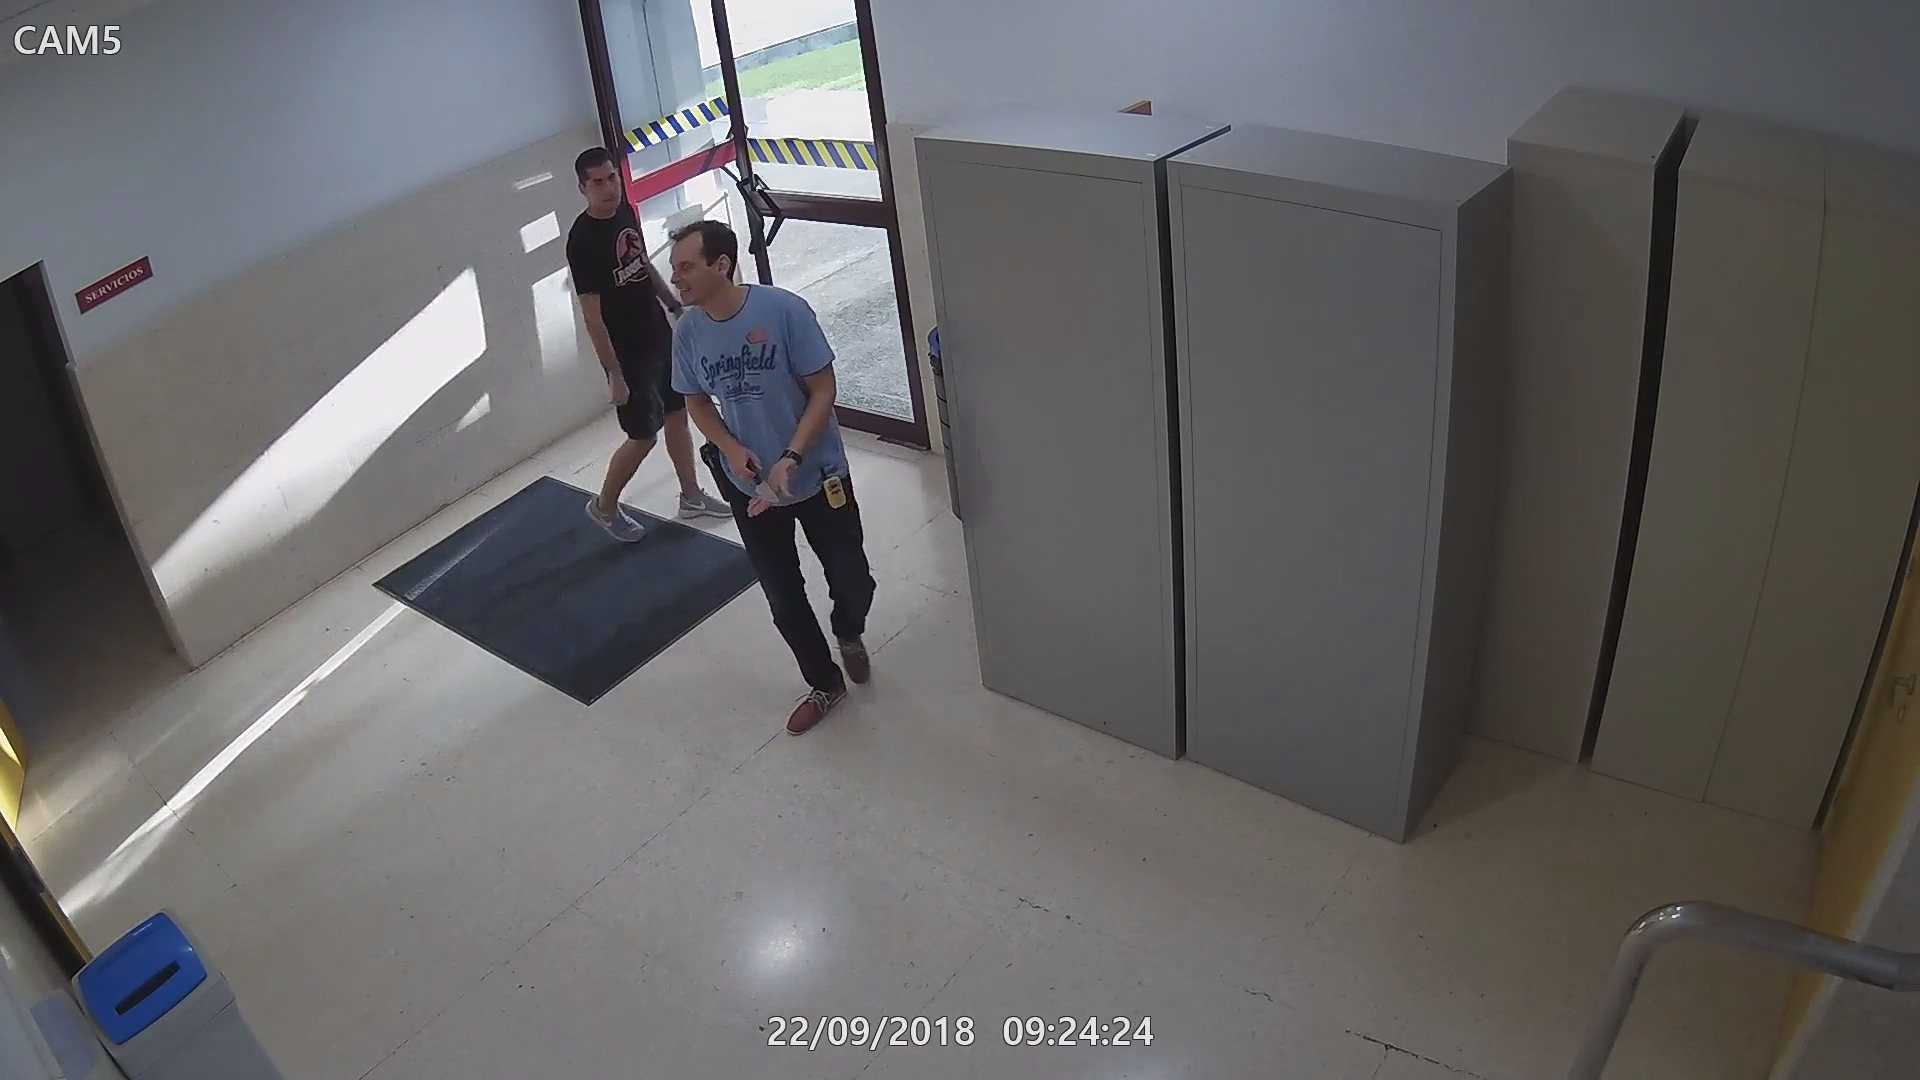Handgun: (695, 438, 731, 506)
Knife: (727, 438, 782, 516)
